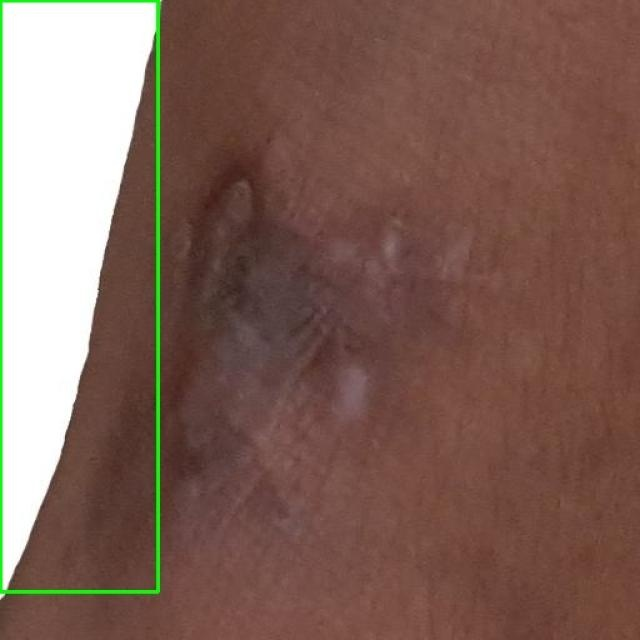Contact Dermatitis: (0, 0, 159, 592)
